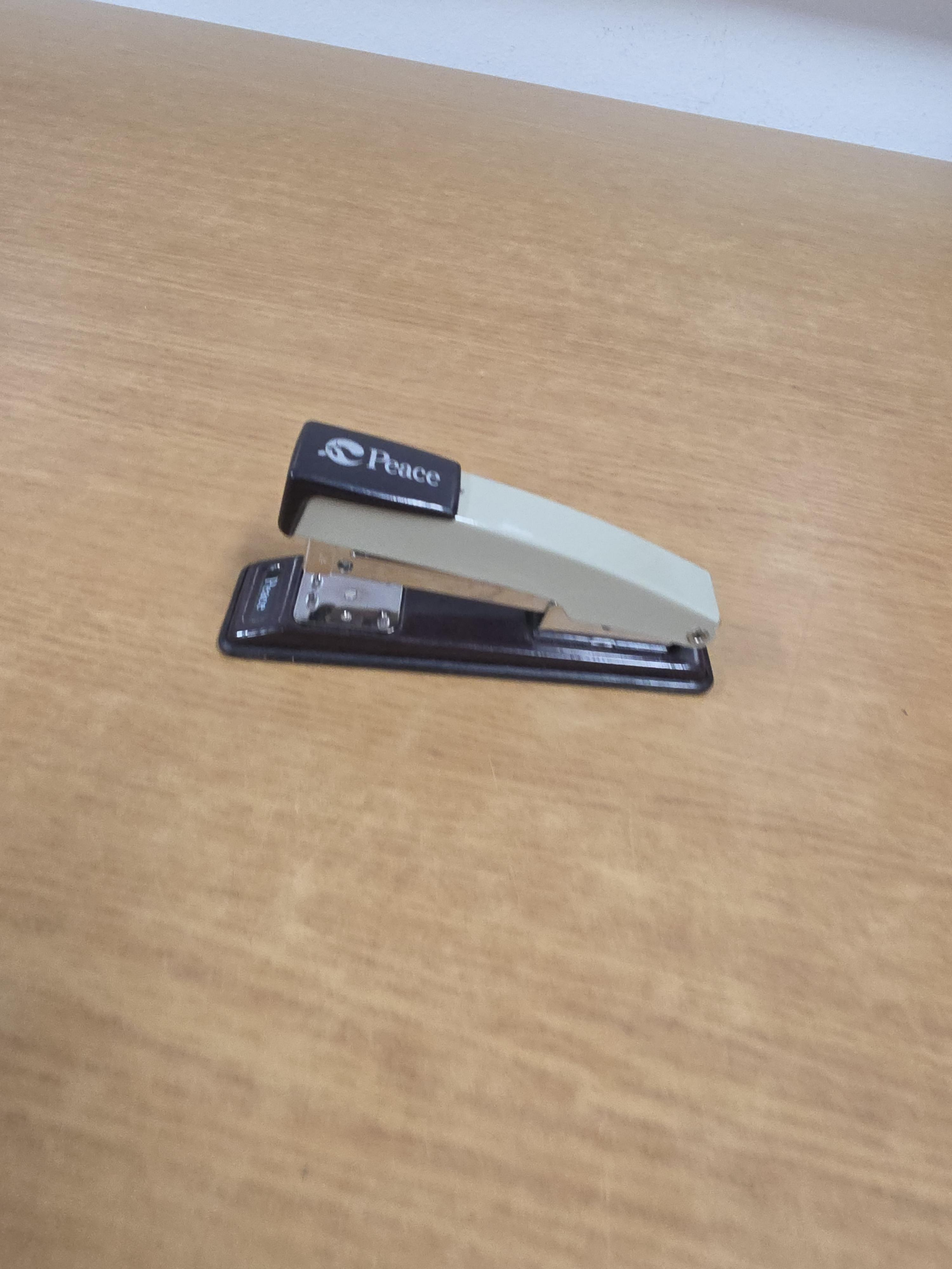stapler: (218, 421, 721, 696)
